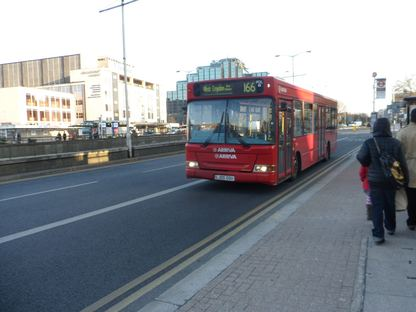bus: (186, 72, 339, 185)
